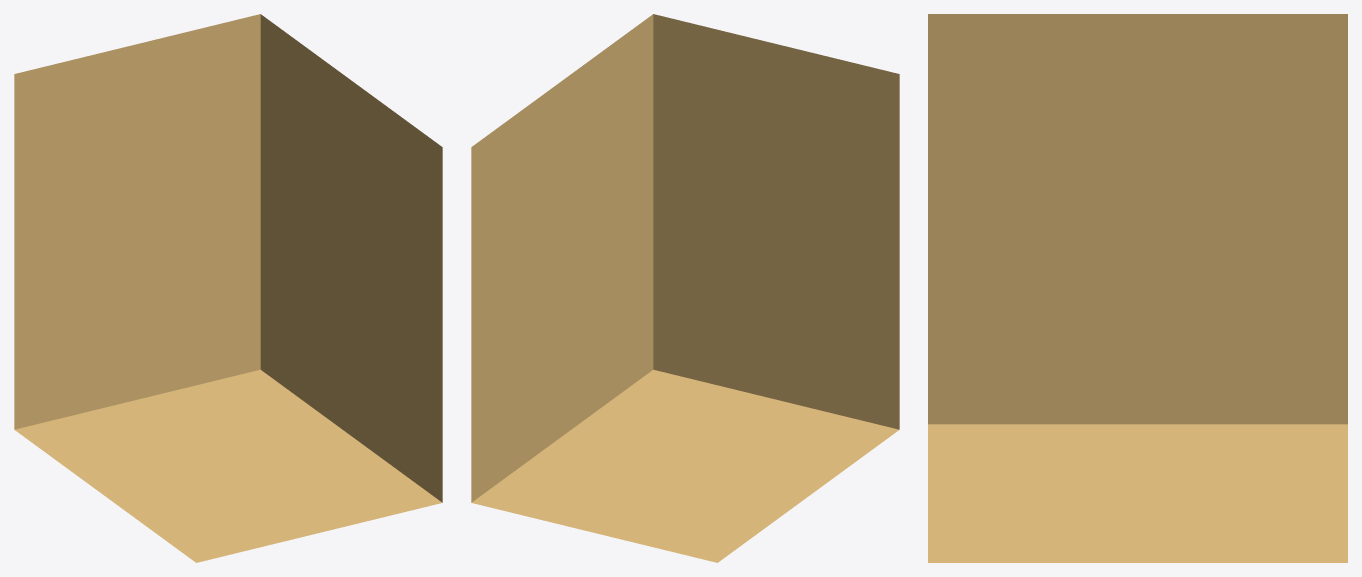
File: decorative-lighting-garden-mandap-005.glb
3 views of the same model, side by side, from view 1: azimuth 30°, elevation 25°; view 2: azimuth 150°, elevation 25°; view 3: azimuth 270°, elevation 25° (orthographic). The views are drawn at different scales.
Parts seen in each view (by area): view 1: Garden Mandap Decorative Lighting; view 2: Garden Mandap Decorative Lighting; view 3: Garden Mandap Decorative Lighting.
Boxes of the visible parts, <box> form: Garden Mandap Decorative Lighting: <box>14,14,442,562</box>; Garden Mandap Decorative Lighting: <box>471,14,899,562</box>; Garden Mandap Decorative Lighting: <box>928,14,1347,562</box>.
Size of the model in its own units: 1 by 1.38 by 1.28.
